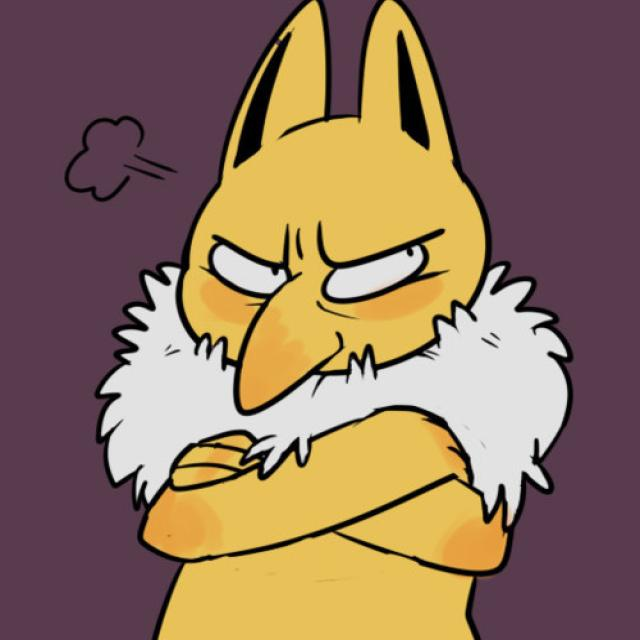Hypno: (150, 0, 531, 640)
